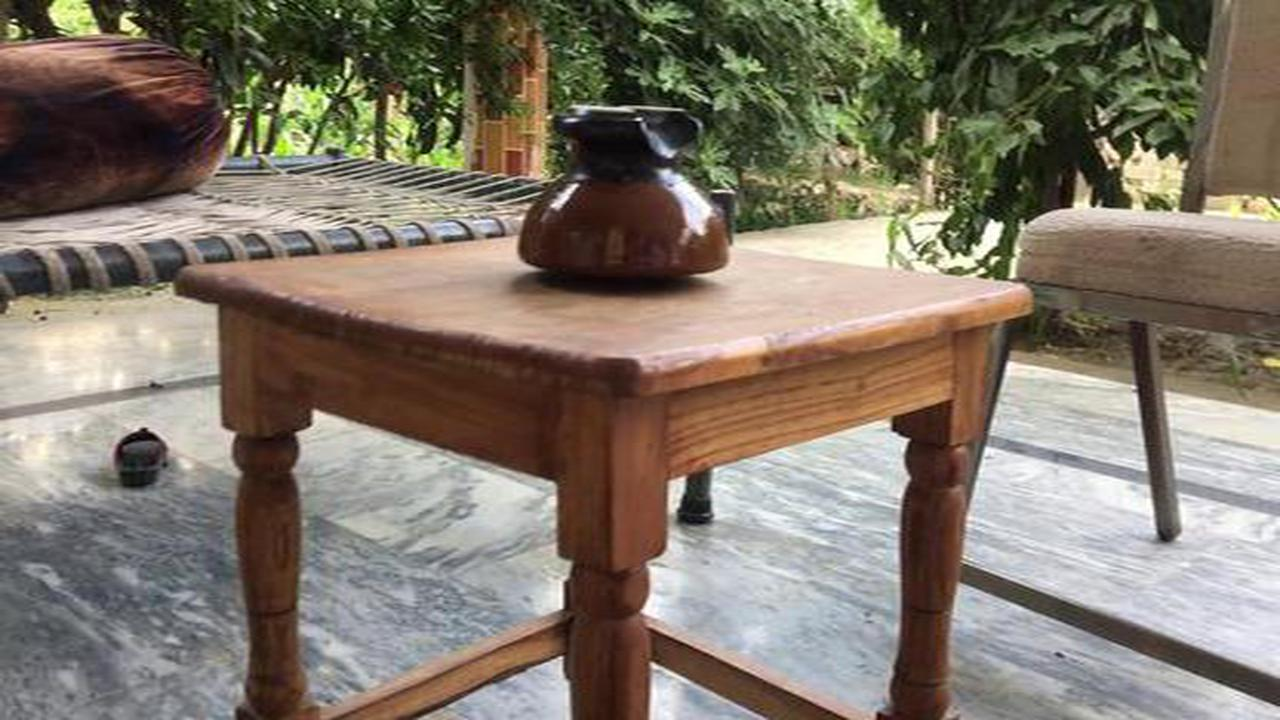insulator_pin: (496, 96, 751, 290)
